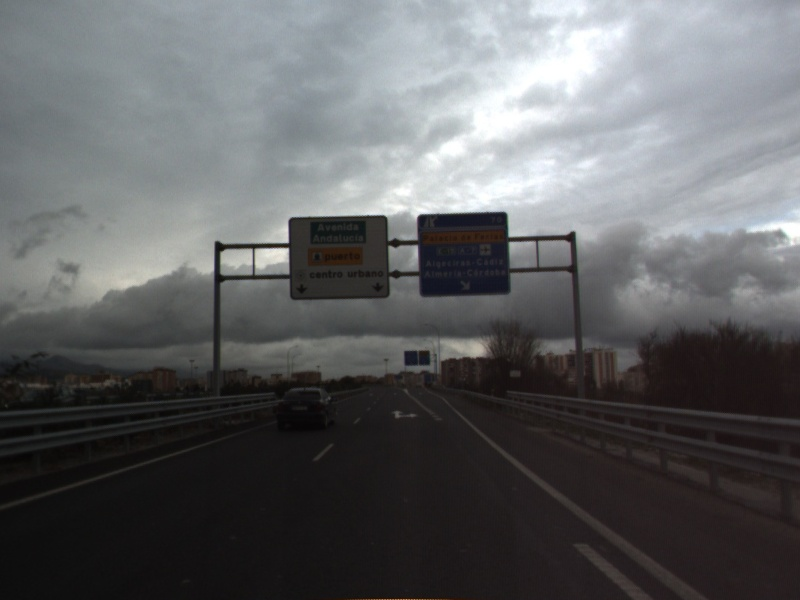STRAIGHT_RIGHT: (389, 408, 420, 421)
